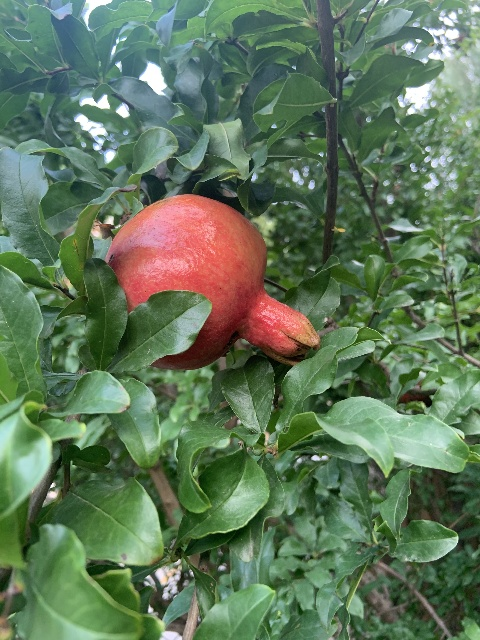ripe: (105, 194, 318, 369)
